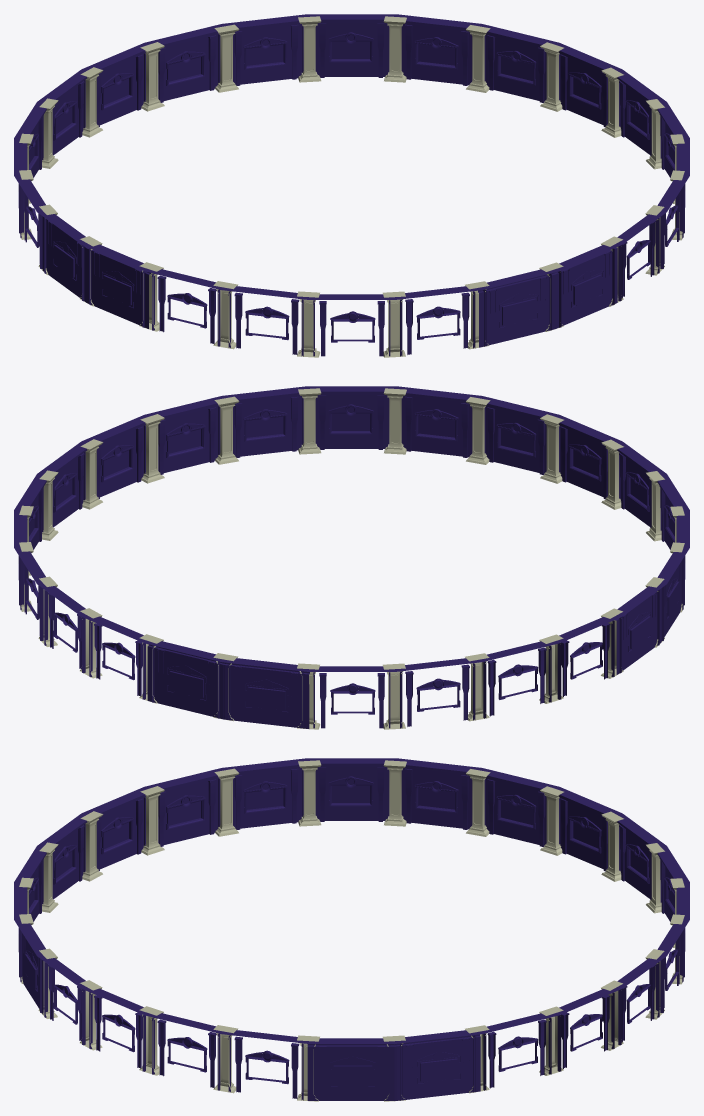
File: SM_bossroominside2FJoin.fbx
3 renders of one model, top to bottom at view 1: azimuth 30°, elevation 25°; view 2: azimuth 150°, elevation 25°; view 3: azimuth 270°, elevation 25°, orthographic.
Parts seen in each view (by area): view 1: SM_boss2FwindowJoin1, SM_boss2Fpillar001; view 2: SM_boss2FwindowJoin1, SM_boss2Fpillar001; view 3: SM_boss2FwindowJoin1, SM_boss2Fpillar001.
Boxes of the visible parts, box(x1,y1,x2,y2) form: SM_boss2FwindowJoin1: box(14, 14, 689, 356); SM_boss2Fpillar001: box(19, 16, 684, 357); SM_boss2FwindowJoin1: box(14, 386, 689, 728); SM_boss2Fpillar001: box(19, 388, 684, 729); SM_boss2FwindowJoin1: box(14, 758, 689, 1100); SM_boss2Fpillar001: box(19, 760, 684, 1101).
Bounding box in the file's own units: 5107 × 501 × 5107.
